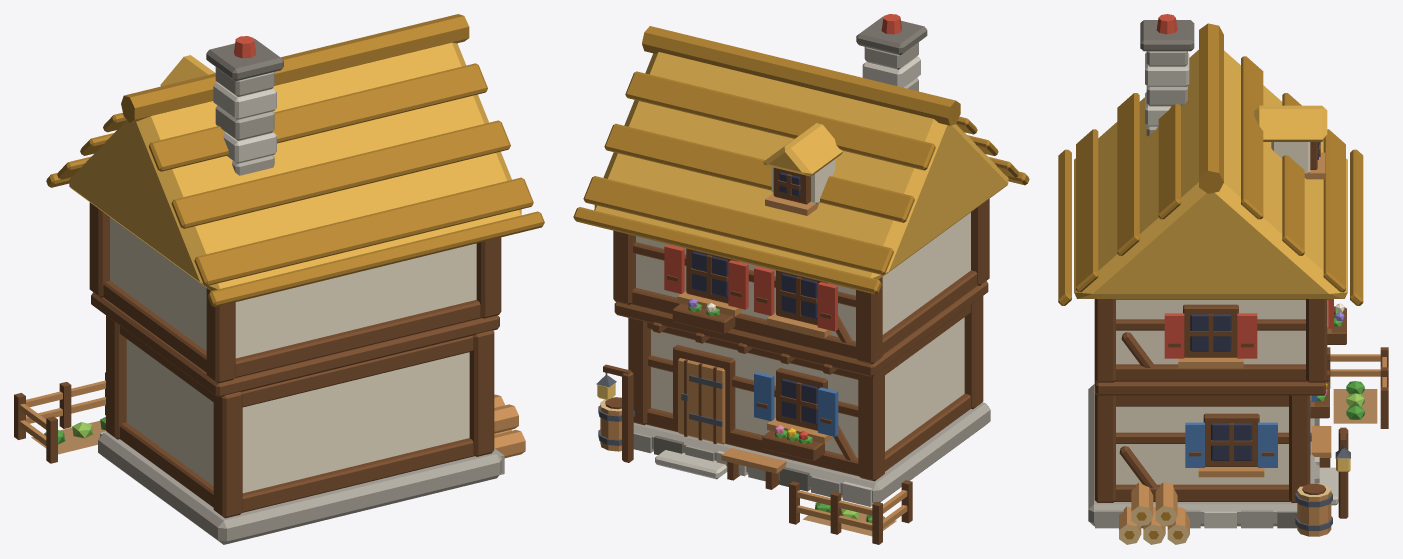
File: house_l2.fbx
The picture shows the model from 3 angles, left to right: view 1: azimuth 30°, elevation 25°; view 2: azimuth 150°, elevation 25°; view 3: azimuth 270°, elevation 25°; orthographic projection. The views are drawn at different scales.
Parts seen in each view (by area): view 1: house_l2; view 2: house_l2; view 3: house_l2.
Part boxes in pixels (x1,y1,x2,y2): house_l2: (14, 14, 544, 544); house_l2: (573, 14, 1029, 544); house_l2: (1058, 14, 1388, 544).
Size of the model in its own units: 0.936 by 1.13 by 0.8153.
